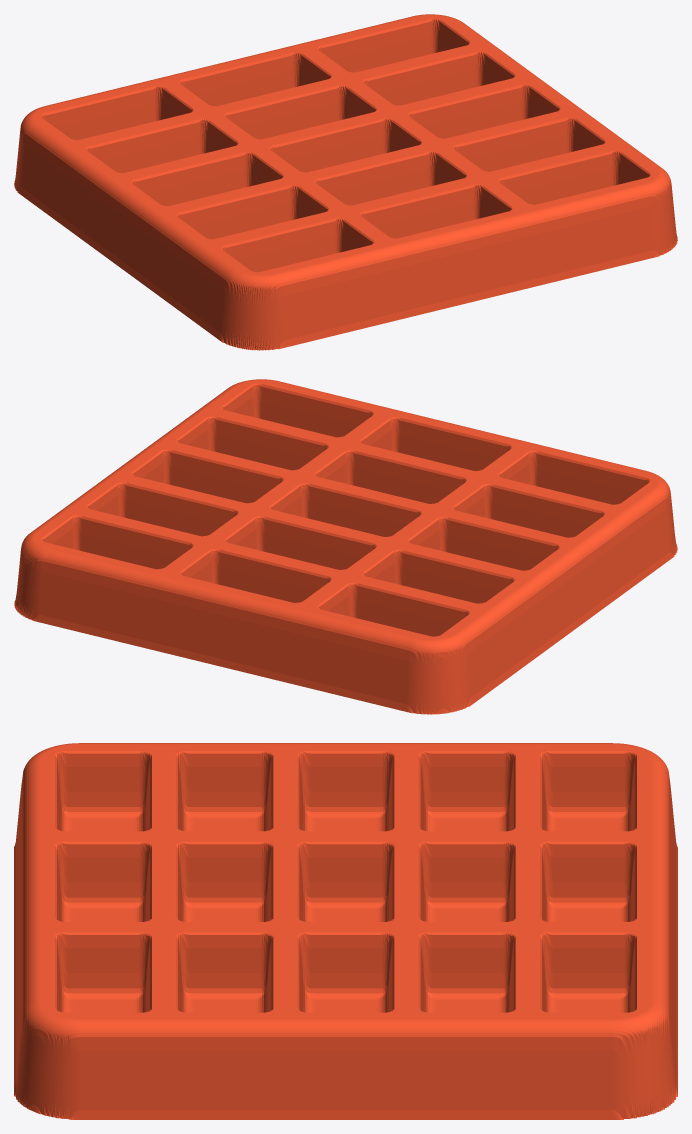
The model's file is mold.glb.
The picture shows the model from 3 angles, top to bottom: view 1: azimuth 30°, elevation 25°; view 2: azimuth 150°, elevation 25°; view 3: azimuth 270°, elevation 25°; orthographic projection. The views are drawn at different scales.
Visible parts, largest first — view 1: geometry_0; view 2: geometry_0; view 3: geometry_0.
Part boxes in pixels (<box>): geometry_0: <box>14,14,677,350</box>; geometry_0: <box>14,379,677,714</box>; geometry_0: <box>14,743,677,1119</box>.
Size of the model in its own units: 0.0966 by 0.0136 by 0.0915.
